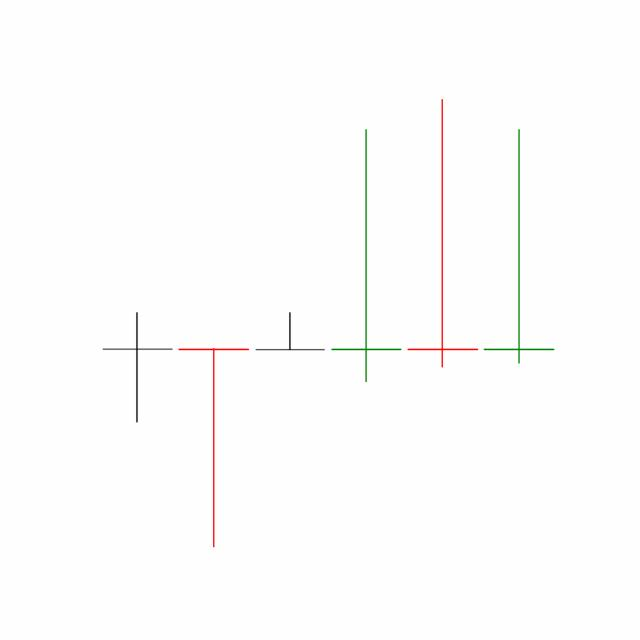Gravestone Doji: (403, 95, 481, 370)
